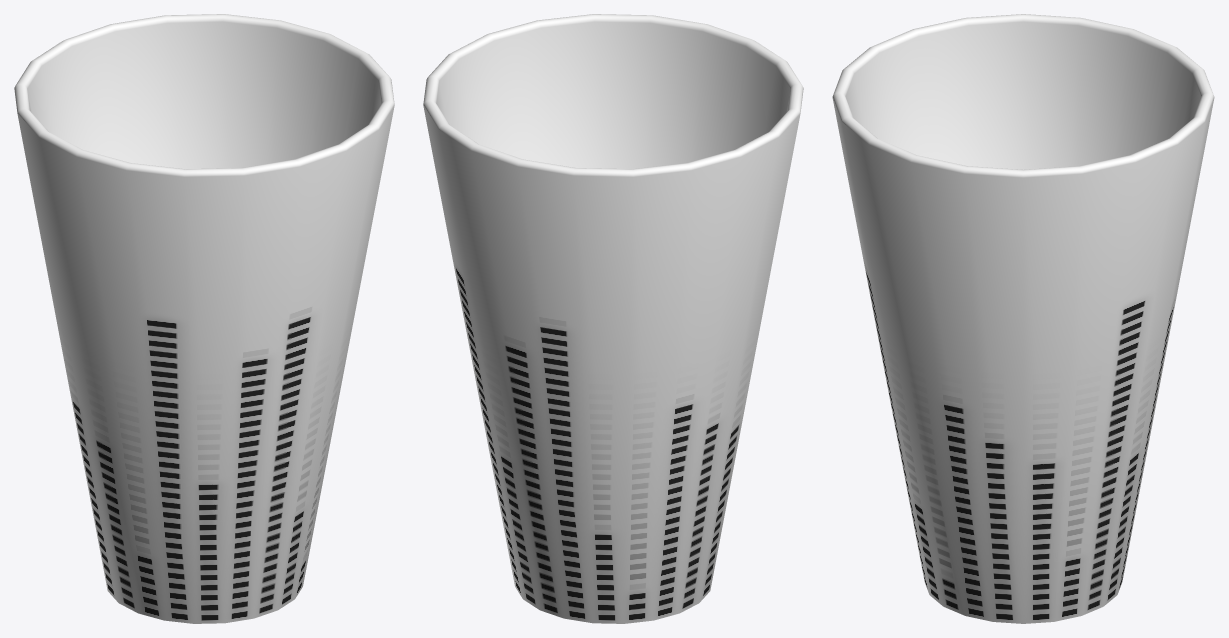
File: Vase02_1.FBX
The picture shows the model from 3 angles, left to right: view 1: azimuth 30°, elevation 25°; view 2: azimuth 150°, elevation 25°; view 3: azimuth 270°, elevation 25°; orthographic projection.
Visible parts, largest first — view 1: Vase02_1; view 2: Vase02_1; view 3: Vase02_1.
Boxes of the visible parts, x1,y1,x2,y2 form: Vase02_1: [14, 14, 394, 623]; Vase02_1: [423, 14, 803, 623]; Vase02_1: [832, 14, 1214, 623].
Bounding box in the file's own units: 25.18 × 35.58 × 25.18.
